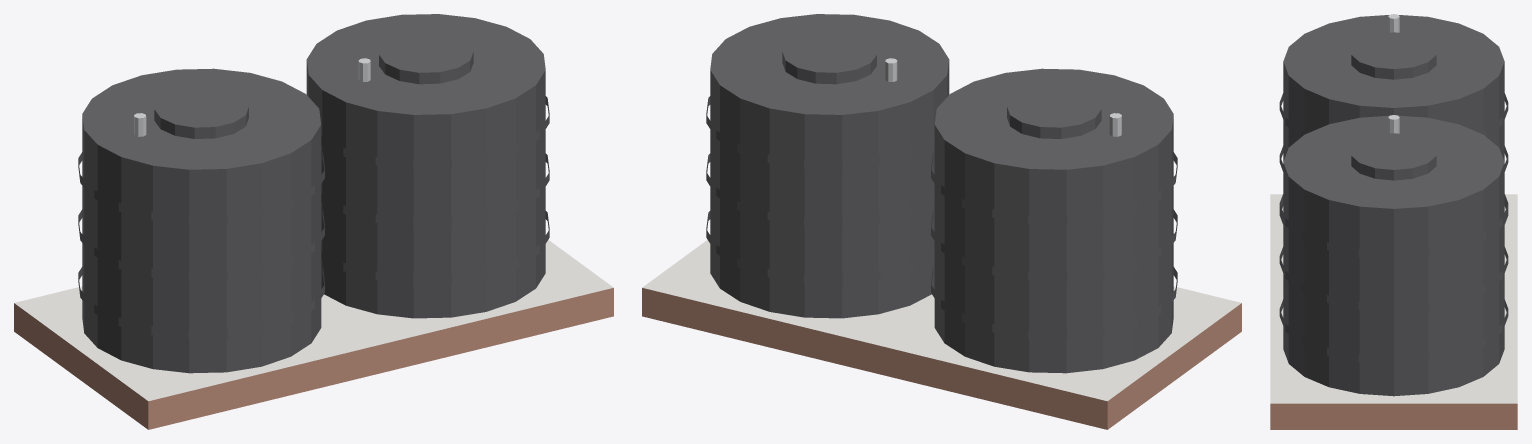
File: Cover_Water_Tanks.fbx
3 views of the same model, side by side, from view 1: azimuth 30°, elevation 25°; view 2: azimuth 150°, elevation 25°; view 3: azimuth 270°, elevation 25° (orthographic). The views are drawn at different scales.
Parts seen in each view (by area): view 1: Cover_Water_Tanks; view 2: Cover_Water_Tanks; view 3: Cover_Water_Tanks.
Boxes of the visible parts, x1,y1,x2,y2 form: Cover_Water_Tanks: (14, 14, 613, 429); Cover_Water_Tanks: (642, 14, 1241, 429); Cover_Water_Tanks: (1270, 14, 1517, 429).
Bounding box in the file's own units: 3.4 × 1.75 × 1.7.
